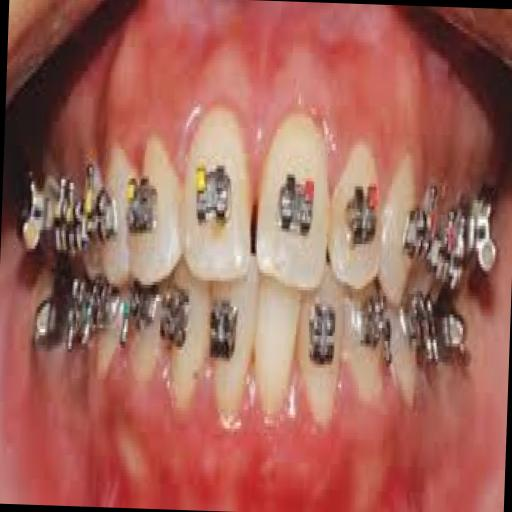correct_brace: (190, 151, 236, 238), (272, 165, 320, 242)
